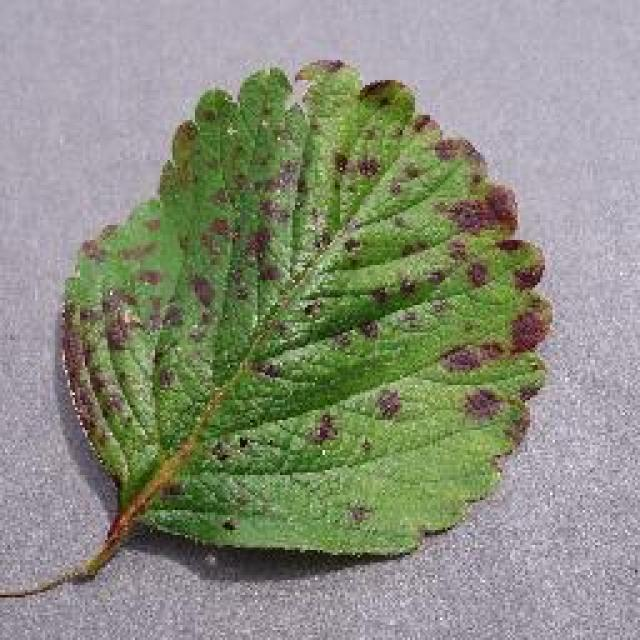Strawberry___Leaf_scorch: (91, 89, 534, 552)
